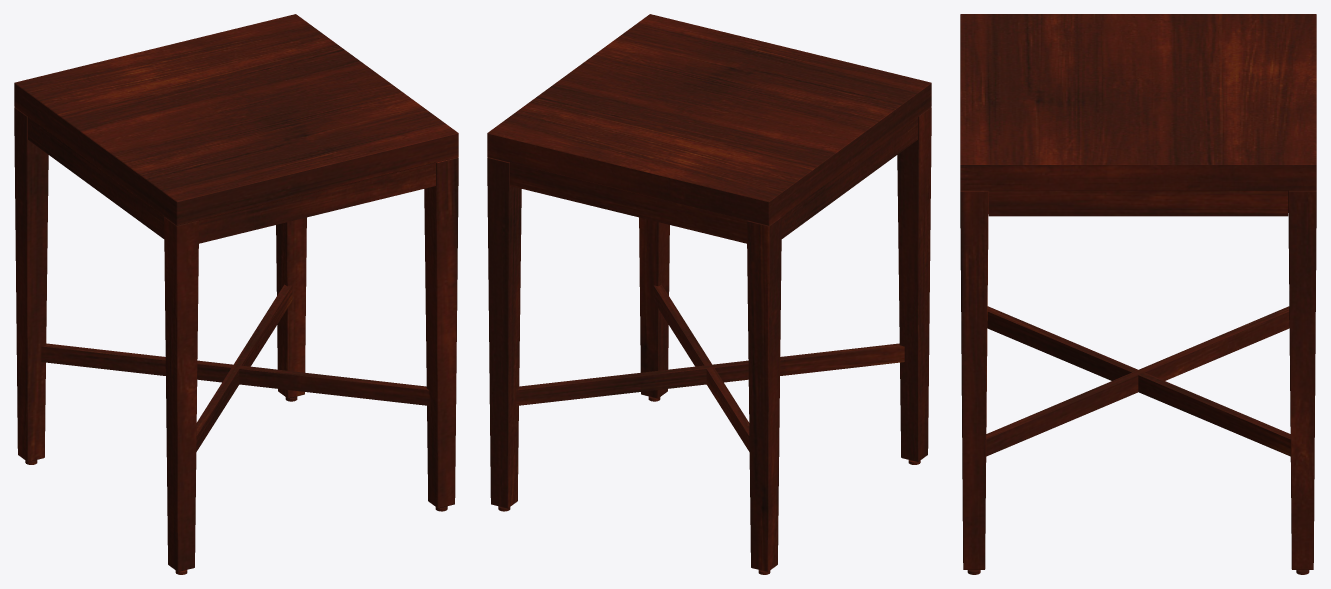
File: bar_table.obj
3 renders of one model, left to right at view 1: azimuth 30°, elevation 25°; view 2: azimuth 150°, elevation 25°; view 3: azimuth 270°, elevation 25°, orthographic. The views are drawn at different scales.
Visible parts, largest first — view 1: table_Cube; view 2: table_Cube; view 3: table_Cube.
Part boxes in pixels (x1,y1,x2,y2): table_Cube: (14, 14, 458, 574); table_Cube: (487, 14, 931, 574); table_Cube: (960, 14, 1316, 574).
Bounding box in the file's own units: 80 × 102 × 80.
Materials: 2 (2 with a texture image).
